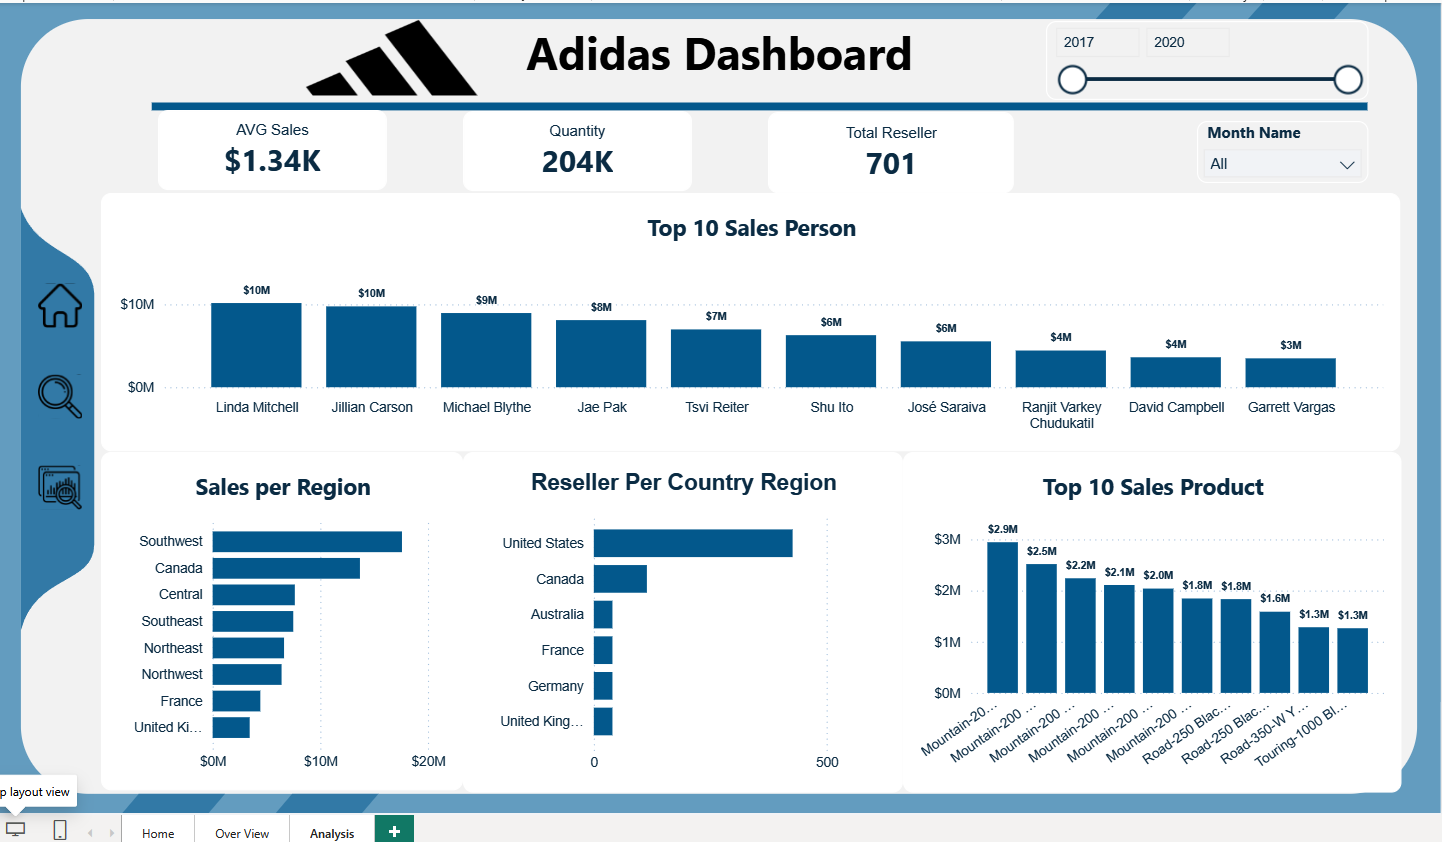

What the dashboard file says about the page in this screenshot:
{"tool":"powerbi","page":{"name":"Analysis","canvas":[1280,720],"ordinal":2},"visuals":[{"type":"actionButton","box":[305.2,0,669.6,85.7],"z":0,"group":"g2"},{"type":"clusteredColumnChart","title":"Top 10 Sales Person","fields":{"Category":["Salesperson.Salesperson"],"Y":["insughts.sales"]},"box":[91.7,168.9,1152.2,229.2],"z":0},{"type":"actionButton","box":[27.7,236.5,55.5,62.7],"z":0,"group":"g3"},{"type":"image","box":[258.2,0,182.2,96.5],"z":1000,"group":"g2"},{"type":"actionButton","box":[27.7,317.3,55.5,62.7],"z":1000,"group":"g3"},{"type":"barChart","title":"Sales per Region","fields":{"Category":["Region.Region"],"Y":["insughts.sales"]},"box":[91.7,398.1,320.9,300.4],"z":1000},{"type":"clusteredColumnChart","title":"Top 10 Sales Product","fields":{"Category":["Product.Product"],"Y":["insughts.sales"]},"box":[802.3,398.1,441.6,301.6],"z":2000},{"type":"actionButton","box":[27.7,398.2,55.5,62.7],"z":2000,"group":"g3"},{"type":"clusteredBarChart","title":"Reseller Per Country Region","fields":{"Category":["Reseller.Country-Region"],"Y":["CountNonNull(Reseller.Reseller)"]},"box":[412.6,398.1,389.7,301.6],"z":3000},{"type":"cardVisual","fields":{"Data":["insughts.AVG Sales"]},"box":[142.3,94.4,202.7,71.2],"z":4000,"group":"g4"},{"type":"cardVisual","fields":{"Data":["insughts.Quantity"]},"box":[412.6,95.5,202.7,71.2],"z":4000,"group":"g1"},{"type":"cardVisual","fields":{"Data":["insughts.Reseller"]},"box":[682.8,96.5,218.4,72.4],"z":4000},{"type":"group","id":"g1","title":"Group 4","box":[412.6,95.5,202.7,71.2],"z":6000},{"type":"slicer","fields":{"Values":["Sales.Month Name"]},"box":[1062.9,105,152,55.5],"z":7000},{"type":"group","id":"g2","title":"Group 1","box":[258.2,0,716.6,96.5],"z":8000},{"type":"group","id":"g3","title":"Group 2","box":[27.7,236.5,55.5,224.4],"z":9000},{"type":"slicer","fields":{"Values":["Sales.OrderDate.Variation.Date Hierarchy.Year"]},"box":[929,15.7,285.9,70],"z":10000},{"type":"group","id":"g4","title":"Group 4","box":[142.3,94.4,202.7,71.2],"z":11000}]}

Visuals, with their boxes on the page's 1280x720 design canvas (x1, y1, x2, y2). These are canvas units, not pixel positions in the 1442x842 screenshot, which may show the page scaled, cropped or inside an application window:
actionButton: 305 0 975 86
"Top 10 Sales Person" clusteredColumnChart: 92 169 1244 398
actionButton: 28 236 83 299
image: 258 0 440 96
actionButton: 28 317 83 380
"Sales per Region" barChart: 92 398 413 698
"Top 10 Sales Product" clusteredColumnChart: 802 398 1244 700
actionButton: 28 398 83 461
"Reseller Per Country Region" clusteredBarChart: 413 398 802 700
cardVisual - insughts.AVG Sales: 142 94 345 166
cardVisual - insughts.Quantity: 413 96 615 167
cardVisual - insughts.Reseller: 683 96 901 169
"Group 4" group: 413 96 615 167
slicer - Sales.Month Name: 1063 105 1215 160
"Group 1" group: 258 0 975 96
"Group 2" group: 28 236 83 461
slicer - Sales.OrderDate.Variation.Date Hierarchy.Year: 929 16 1215 86
"Group 4" group: 142 94 345 166
